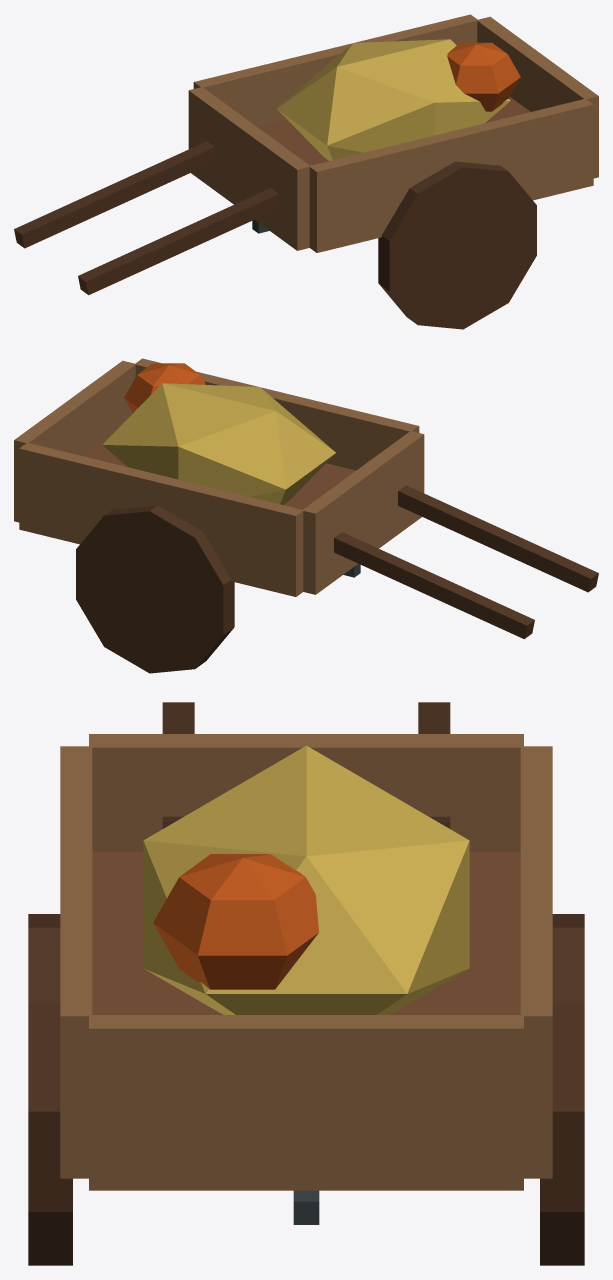
The model's file is prop_cart.glb.
3 views of the same model, one above another, from view 1: azimuth 30°, elevation 25°; view 2: azimuth 150°, elevation 25°; view 3: azimuth 270°, elevation 25° (orthographic). The views are drawn at different scales.
Parts seen in each view (by area): view 1: prop_cart; view 2: prop_cart; view 3: prop_cart.
Part boxes in pixels (box(x1,y1,x2,y2)): prop_cart: box(14, 14, 598, 329); prop_cart: box(14, 358, 598, 673); prop_cart: box(28, 702, 584, 1265).
Bounding box in the file's own units: 0.8935 × 0.396 × 0.435.
